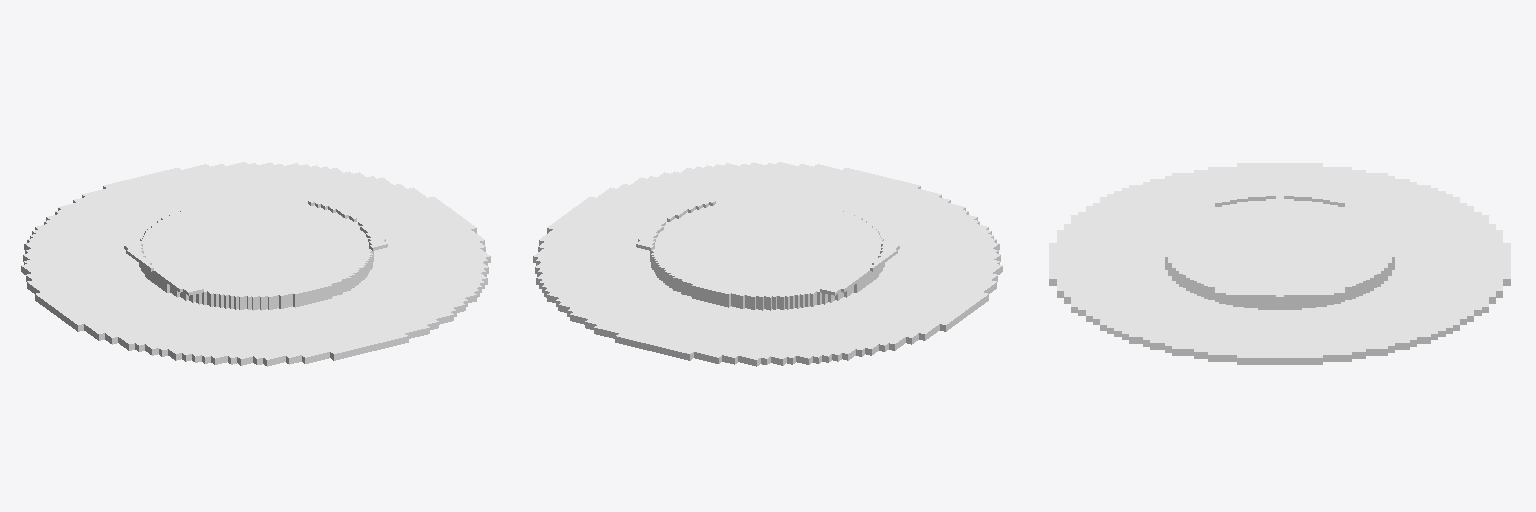
Rendered from ReichMainTurretDown.obj.
3 views of the same model, side by side, from view 1: azimuth 30°, elevation 25°; view 2: azimuth 150°, elevation 25°; view 3: azimuth 270°, elevation 25° (orthographic).
Visible parts, largest first — view 1: object 1; view 2: object 1; view 3: object 1.
Part boxes in pixels (bbox=[...]): object 1: bbox=[21, 162, 490, 366]; object 1: bbox=[533, 162, 1002, 366]; object 1: bbox=[1049, 163, 1510, 364].
Size of the model in its own units: 12.8 by 0.7 by 12.8.